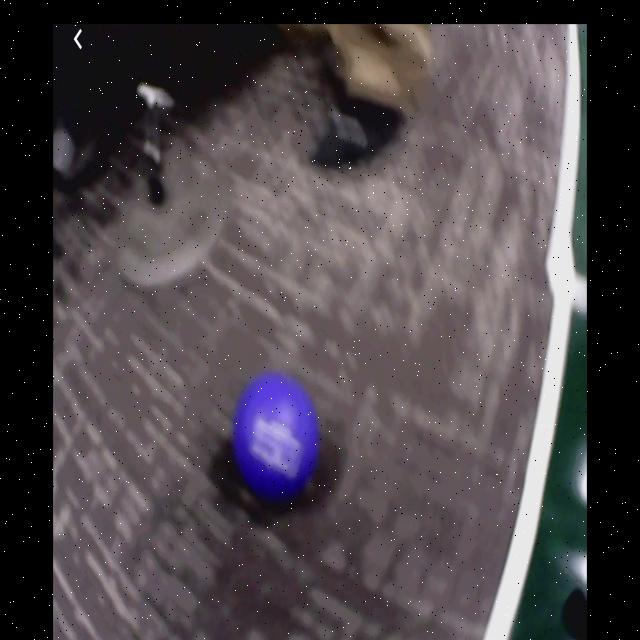ball: (236, 376, 319, 504)
